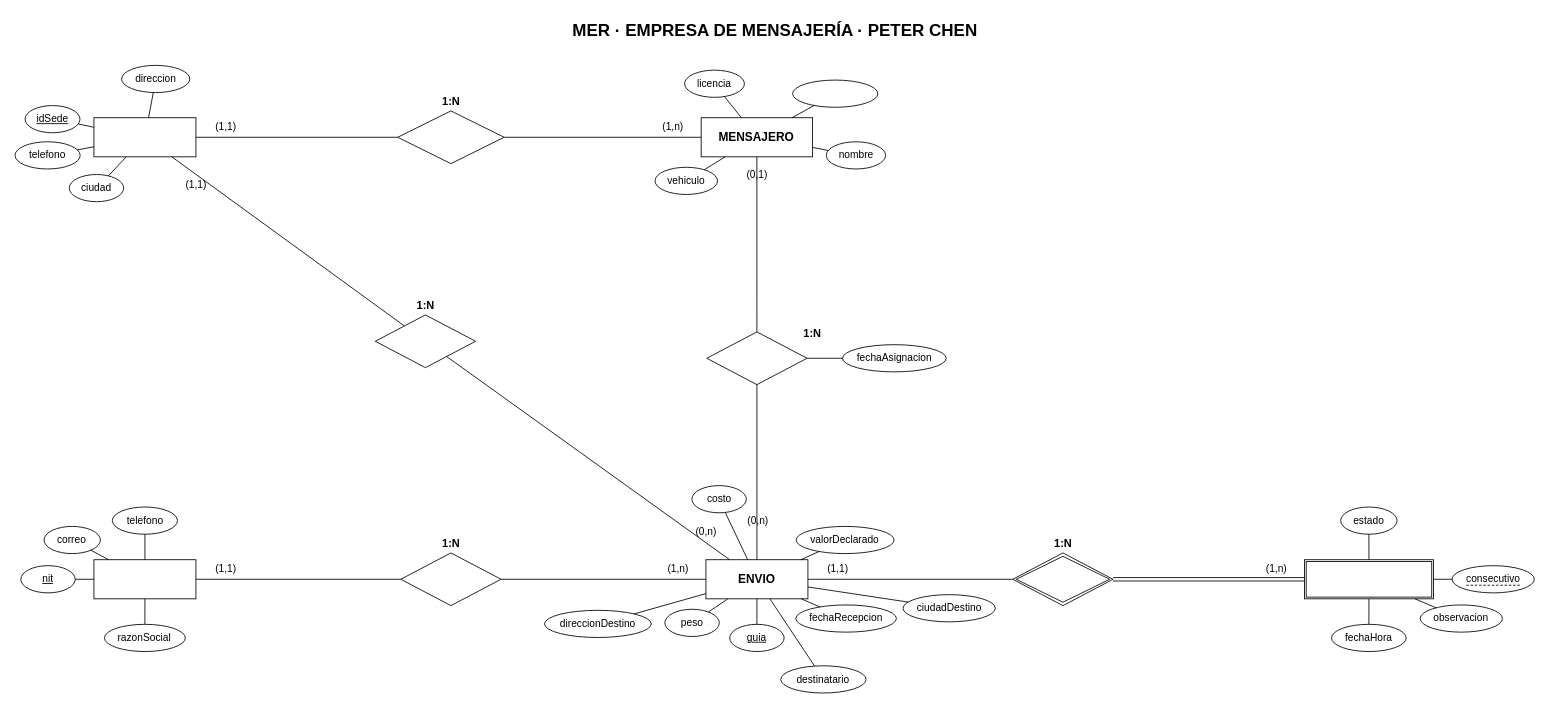
The diagram is 1550 pixels wide and 708 high, and some of its shapes have lost their labels. Here are the shapes that lost their labels. From the top down, the box of each, then its label:
(792, 79, 878, 107): idMensajero
(93, 117, 196, 157): SEDE
(397, 110, 504, 164): pertenecer
(374, 314, 476, 368): recibir
(706, 331, 807, 385): asignar
(93, 559, 196, 599): CLIENTE
(400, 552, 501, 606): enviar
(1012, 552, 1113, 606): registrar
(1304, 559, 1433, 599): SEGUIMIENTO
